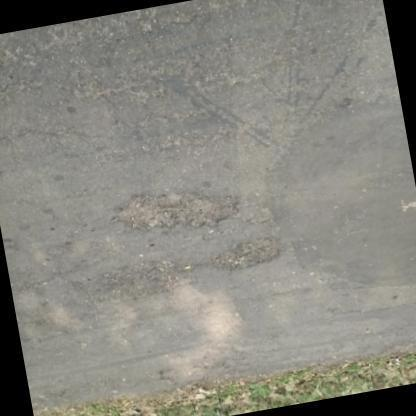pothole: (111, 189, 238, 233), (212, 233, 284, 273)
